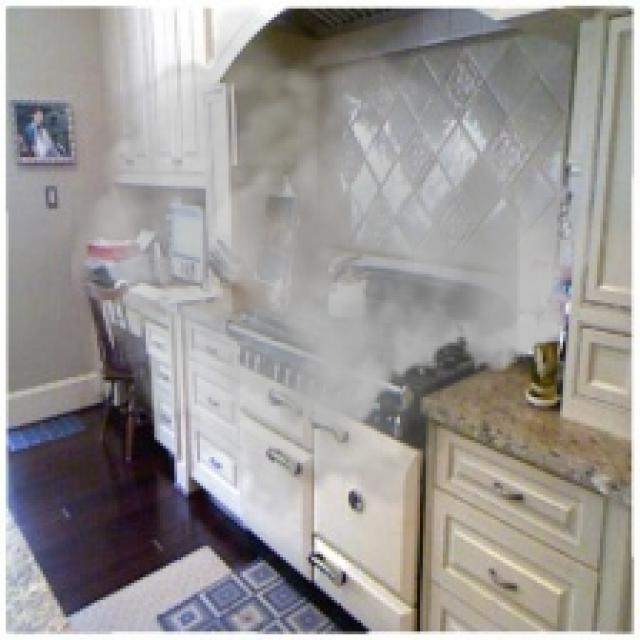smoke: (71, 6, 608, 523)
